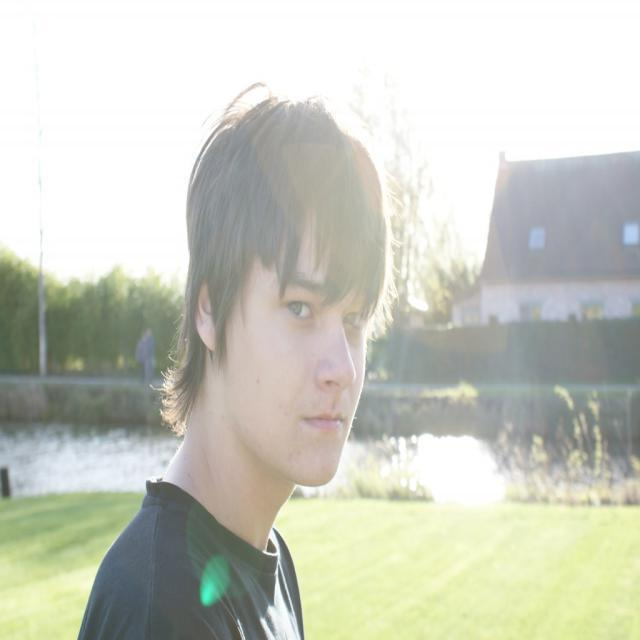closed-mouth: (303, 413, 343, 428)
